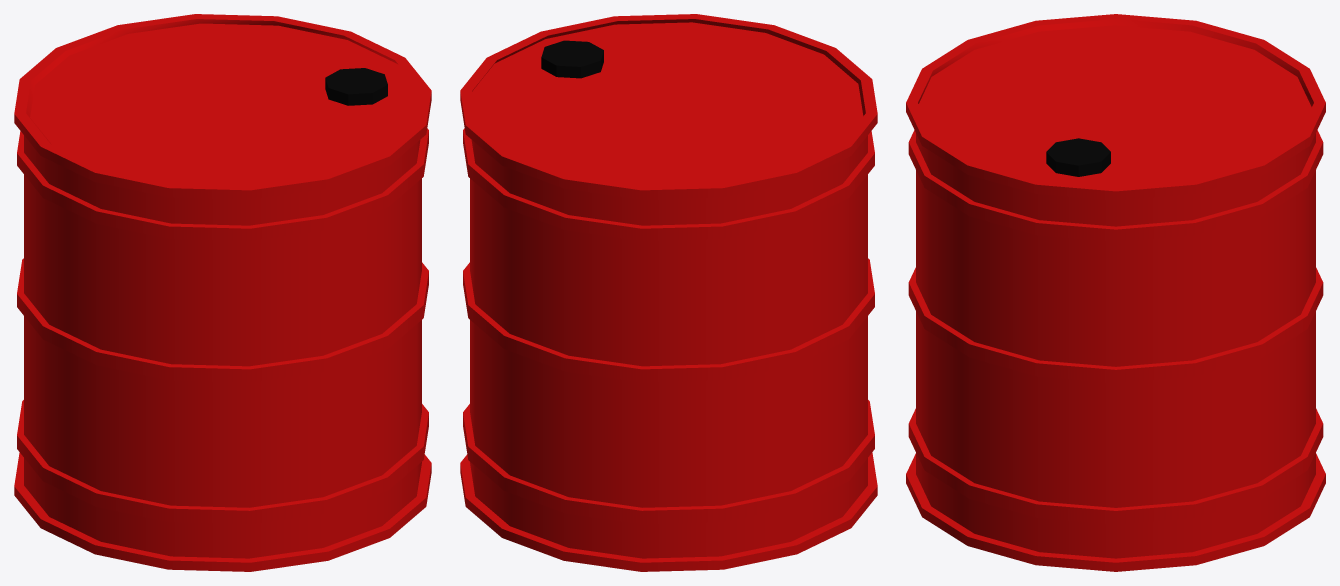
The model's file is Barrel_01.fbx.
The picture shows the model from 3 angles, left to right: view 1: azimuth 30°, elevation 25°; view 2: azimuth 150°, elevation 25°; view 3: azimuth 270°, elevation 25°; orthographic projection.
Parts seen in each view (by area): view 1: Cylinder; view 2: Cylinder; view 3: Cylinder.
Part boxes in pixels (bbox=[...]): Cylinder: bbox=[14, 14, 431, 571]; Cylinder: bbox=[460, 14, 877, 571]; Cylinder: bbox=[906, 14, 1325, 571].
Size of the model in its own units: 200 by 203 by 200.
